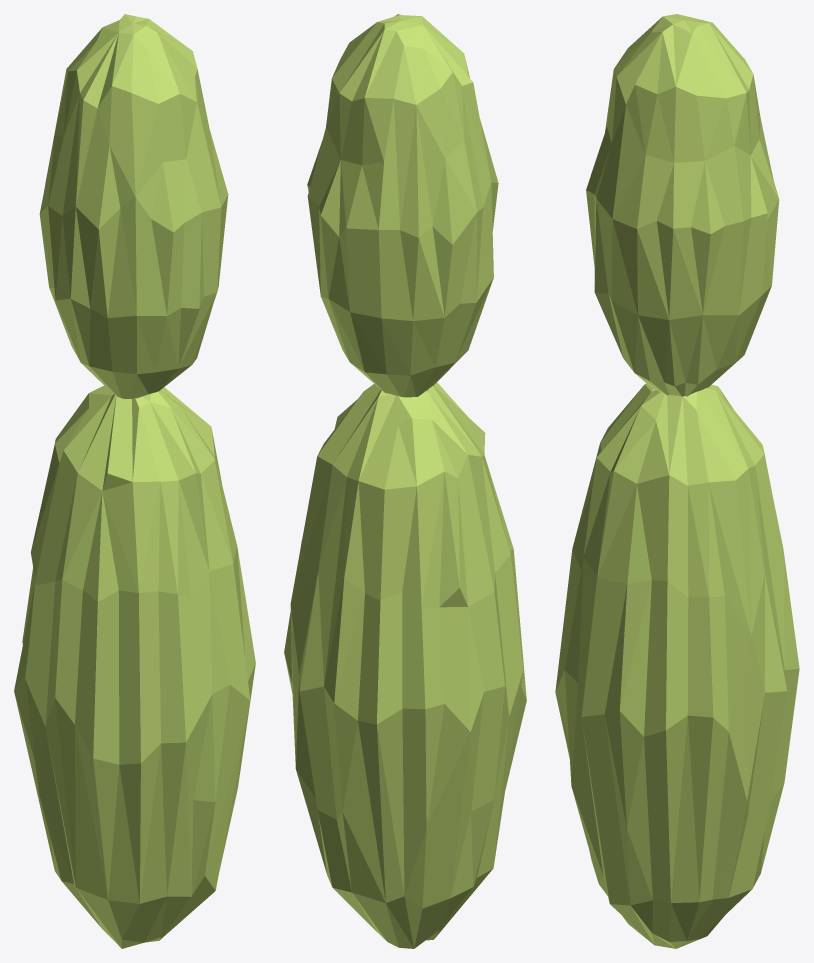
File: _actus2.fbx
3 views of the same model, side by side, from view 1: azimuth 30°, elevation 25°; view 2: azimuth 150°, elevation 25°; view 3: azimuth 270°, elevation 25° (orthographic).
Parts seen in each view (by area): view 1: Sphere.006; view 2: Sphere.006; view 3: Sphere.006.
Boxes of the visible parts, bbox=[...] form: Sphere.006: bbox=[14, 14, 255, 948]; Sphere.006: bbox=[284, 14, 526, 948]; Sphere.006: bbox=[555, 14, 799, 948].
Bounding box in the file's own units: 26.3 × 109 × 26.18.
